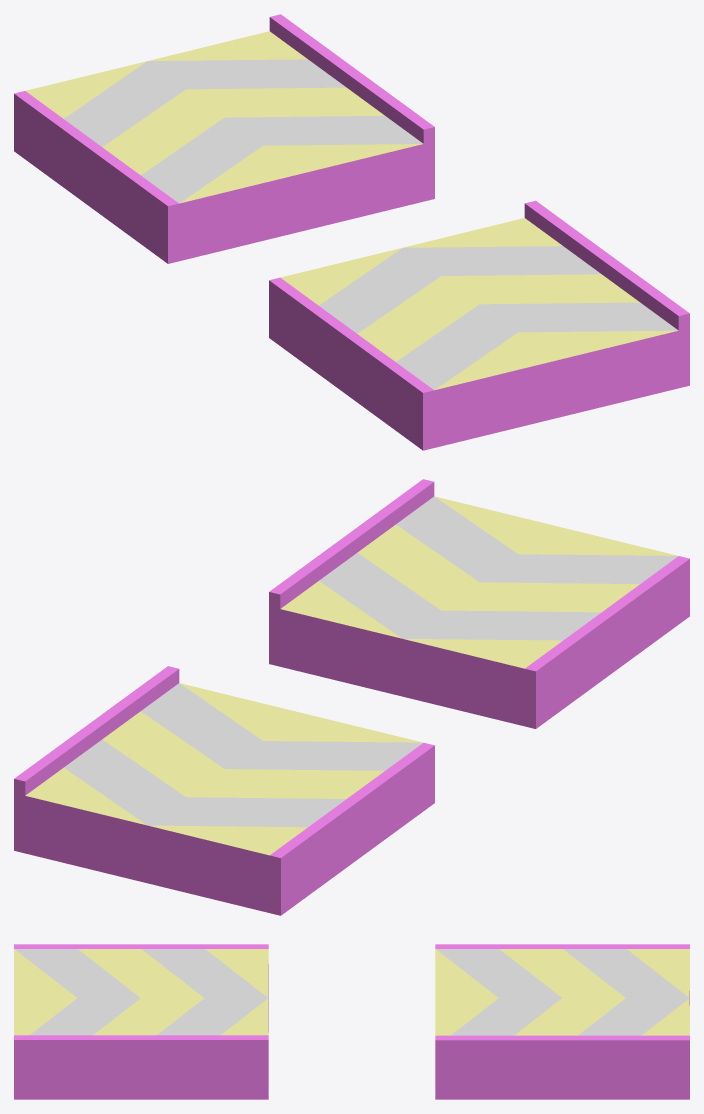
Rendered from new.platforms.fbx.
The picture shows the model from 3 angles, top to bottom: view 1: azimuth 30°, elevation 25°; view 2: azimuth 150°, elevation 25°; view 3: azimuth 270°, elevation 25°; orthographic projection. The views are drawn at different scales.
Parts seen in each view (by area): view 1: hareketli.platform, hareketli.platform.001; view 2: hareketli.platform, hareketli.platform.001; view 3: hareketli.platform, hareketli.platform.001.
Part boxes in pixels (<box>): hareketli.platform: <box>269,200,689,450</box>; hareketli.platform.001: <box>14,14,434,263</box>; hareketli.platform: <box>269,479,689,728</box>; hareketli.platform.001: <box>14,666,434,915</box>; hareketli.platform: <box>14,944,268,1099</box>; hareketli.platform.001: <box>435,944,689,1099</box>.
Bounding box in the file's own units: 200 × 51.71 × 531.
